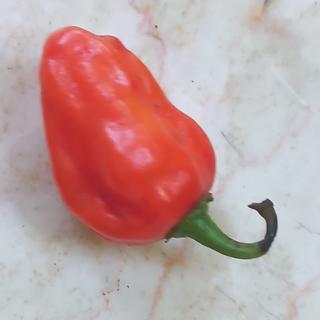Grade-A: (18, 17, 217, 245)
